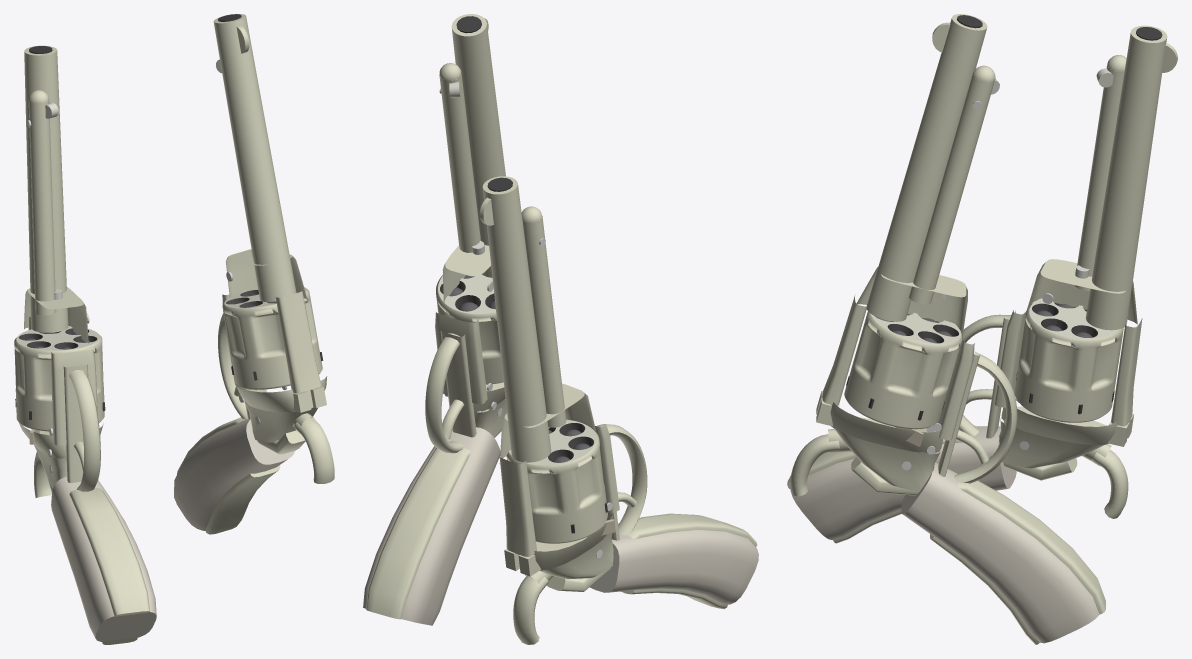
The model's file is gun.gilded-sovereign.glb.
The picture shows the model from 3 angles, left to right: view 1: azimuth 30°, elevation 25°; view 2: azimuth 150°, elevation 25°; view 3: azimuth 270°, elevation 25°; orthographic projection. The views are drawn at different scales.
Parts seen in each view (by area): view 1: revolver (×2); view 2: revolver (×2); view 3: revolver (×2).
Part boxes in pixels (x1,y1,x2,y2): revolver (×2): [14, 14, 334, 644]; revolver (×2): [363, 14, 758, 644]; revolver (×2): [787, 14, 1177, 644].
Size of the model in its own units: 0.1616 by 0.3355 by 0.1944.
